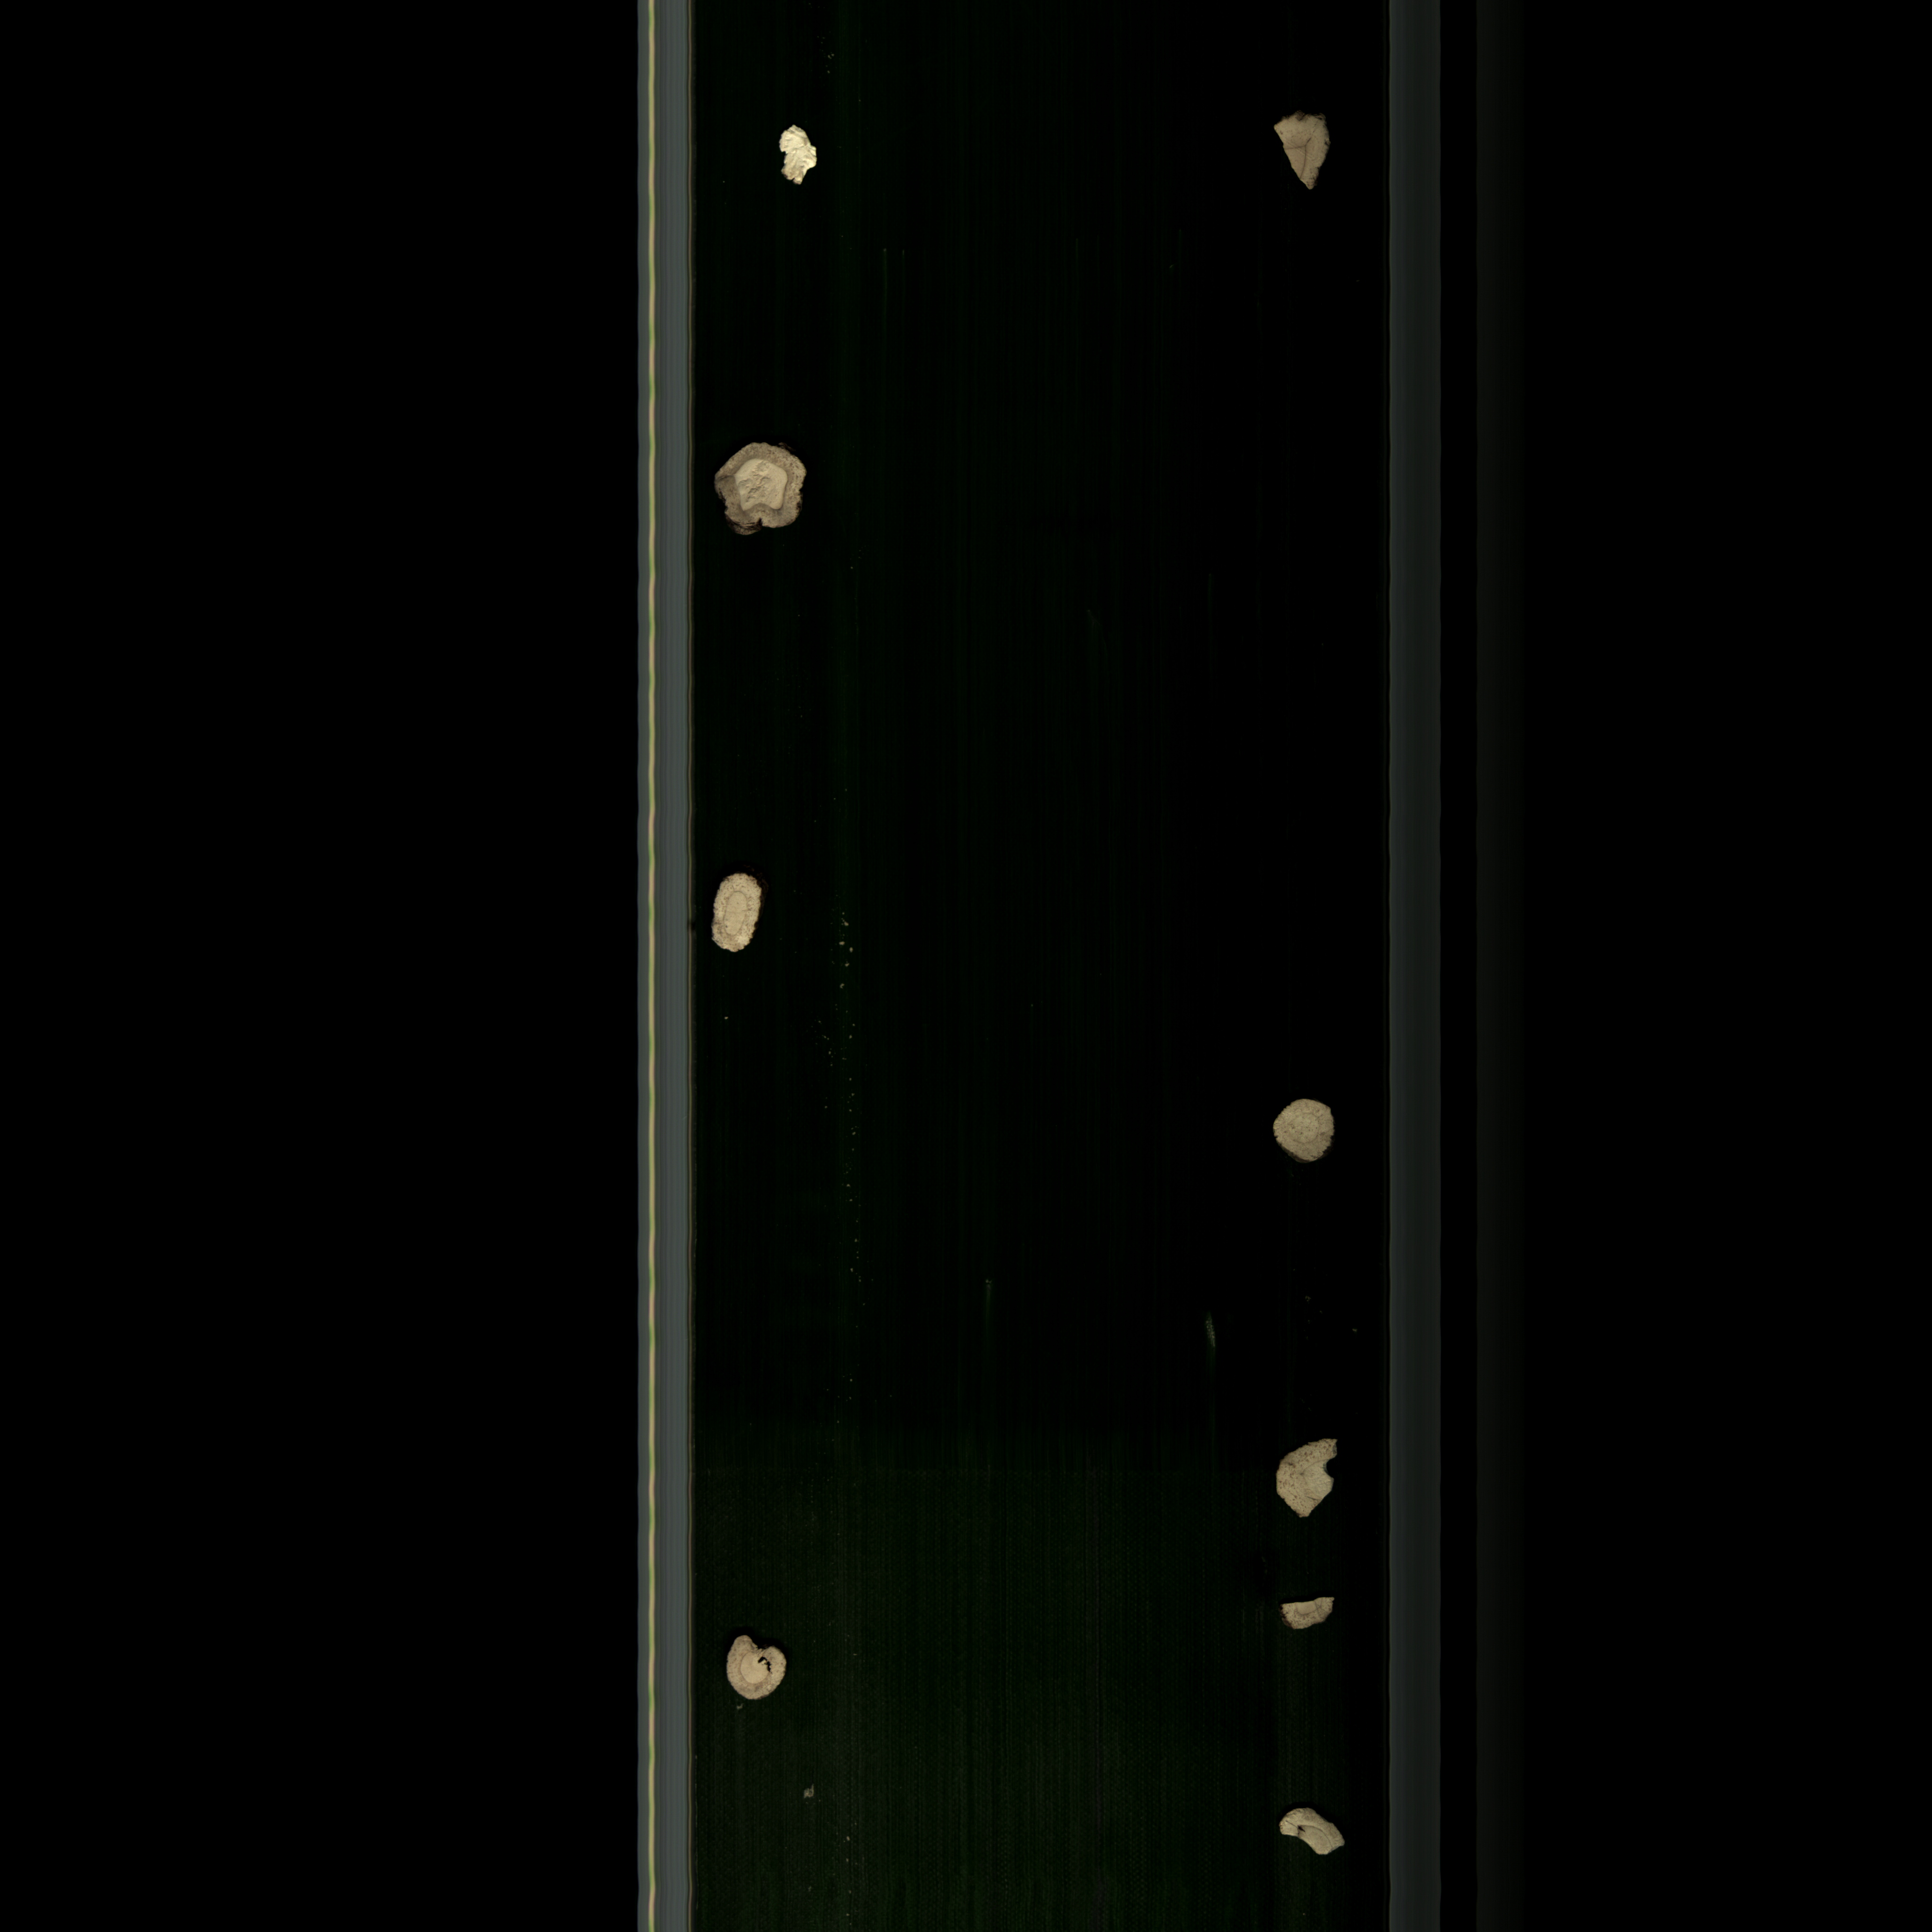debris: (1260, 1430, 1359, 1529), (1274, 1803, 1362, 1863)
dreg: (766, 124, 837, 200), (1265, 1591, 1348, 1645)
hole: (713, 1631, 791, 1713)
moldy: (706, 441, 823, 543), (1253, 106, 1345, 198)
